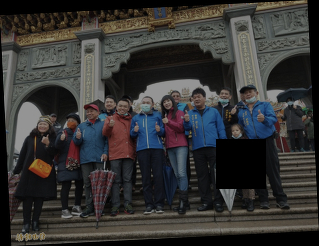mask_weared_incorrect: (243, 90, 257, 103), (116, 103, 129, 115), (219, 91, 230, 104), (231, 127, 242, 139)
with_mask: (140, 100, 154, 112), (66, 118, 78, 129), (287, 99, 294, 107)
without_mask: (37, 121, 50, 133), (193, 94, 206, 106), (85, 109, 98, 120), (162, 97, 173, 110), (104, 100, 116, 110), (170, 93, 181, 103), (49, 115, 57, 123)
